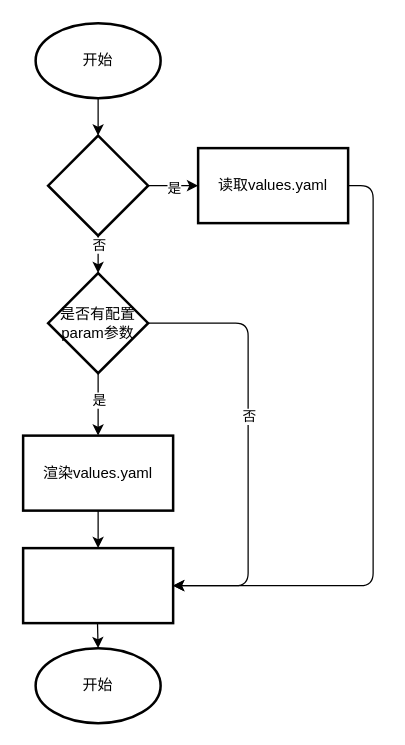
Image size: 405x745. Some labels were removed from this diagram. The centre of each missing label's shape, as x and y in pixels:
"执行chart安装" goes at point 97,585.
"是否有cm存放values.yaml" goes at point 97,185.
